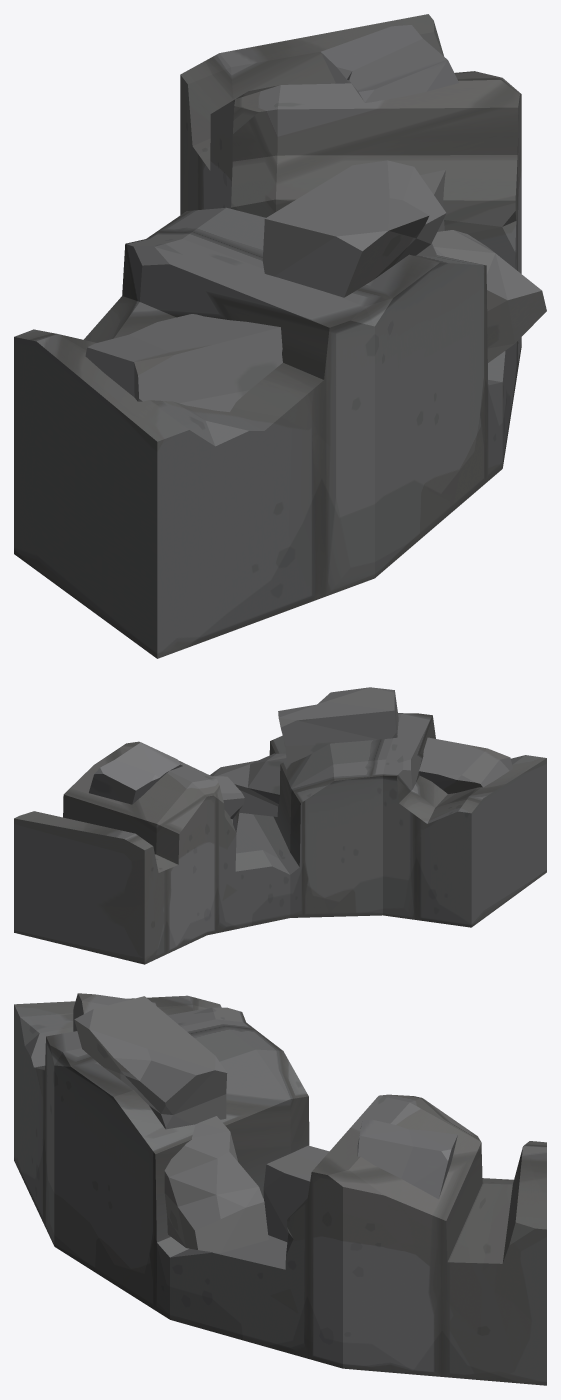
The model's file is SM_Bld_Wall_L_Curve_Half_Damaged_05.fbx.
3 renders of one model, top to bottom at view 1: azimuth 30°, elevation 25°; view 2: azimuth 150°, elevation 25°; view 3: azimuth 270°, elevation 25°, orthographic. The views are drawn at different scales.
Parts seen in each view (by area): view 1: SM_Bld_Wall_L_Curve_Half_Damaged_05; view 2: SM_Bld_Wall_L_Curve_Half_Damaged_05; view 3: SM_Bld_Wall_L_Curve_Half_Damaged_05.
Part boxes in pixels (x1=…): SM_Bld_Wall_L_Curve_Half_Damaged_05: x1=14, y1=14, x2=546, y2=658; SM_Bld_Wall_L_Curve_Half_Damaged_05: x1=14, y1=687, x2=546, y2=964; SM_Bld_Wall_L_Curve_Half_Damaged_05: x1=14, y1=993, x2=546, y2=1385.
Bounding box in the file's own units: 371 × 180 × 371.
